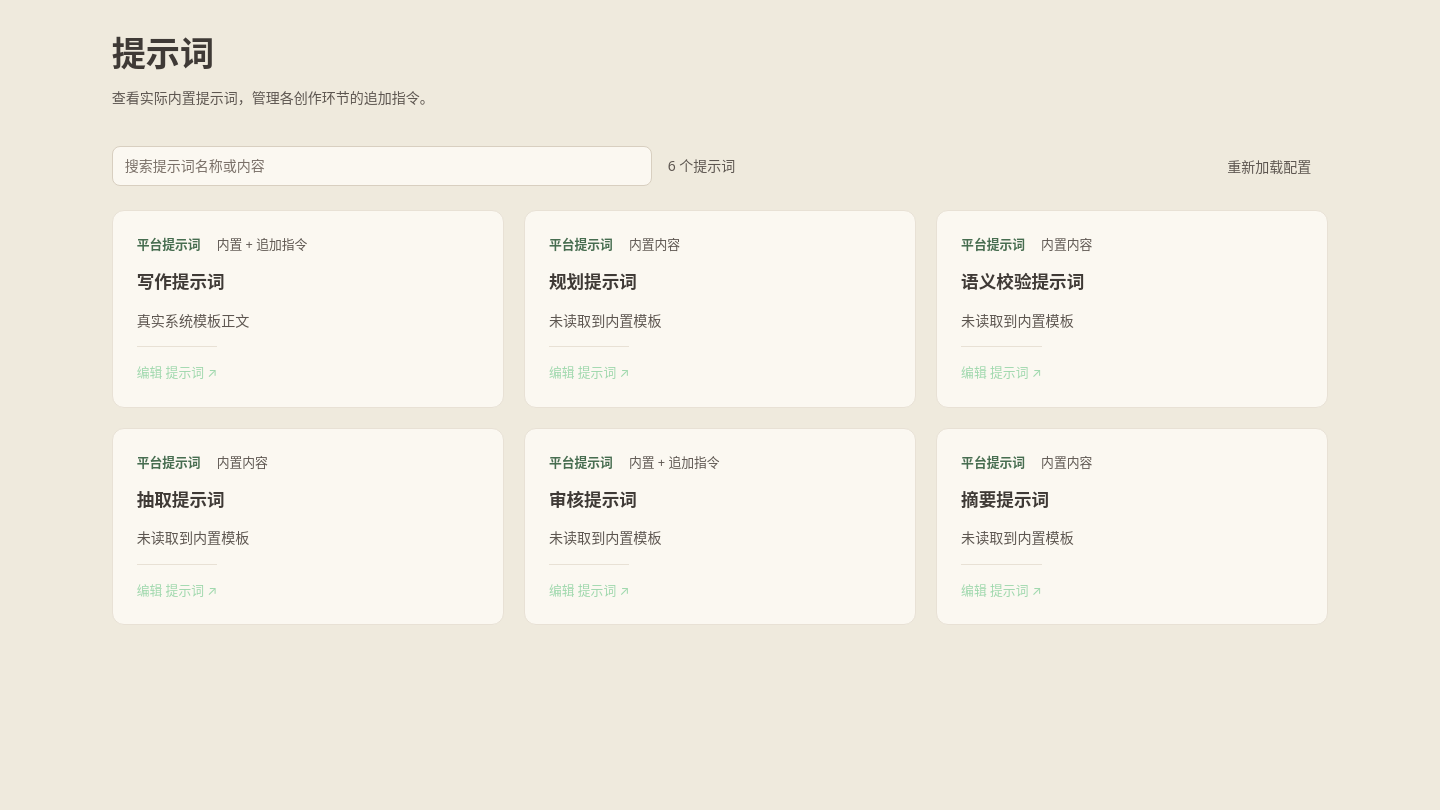
Test: shows live built-in templates while keeping administrator additions separate
The width and height of the screenshot is (1440, 810).
Click the button with aria-label "编辑 写作提示词" at (169, 244), box [112,210,504,408]
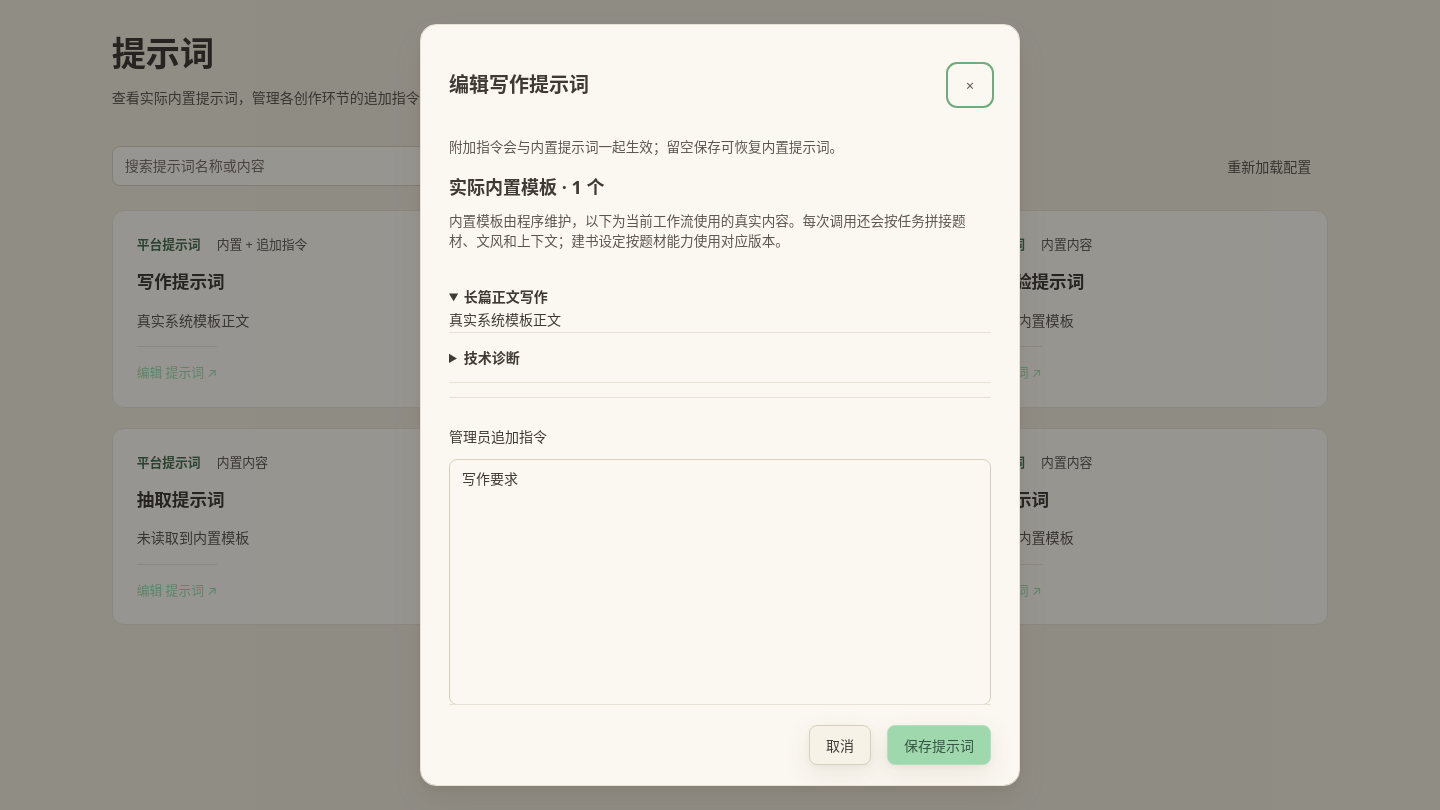
expect the text "真实系统模板正文" is shown: met, box [449,310,561,329]
expect the text box labelled "管理员追加指令" holds "写作要求": met, box [449,459,991,705]
expect the text "内置模板由程序维护" is shown: met, box [449,211,966,250]
